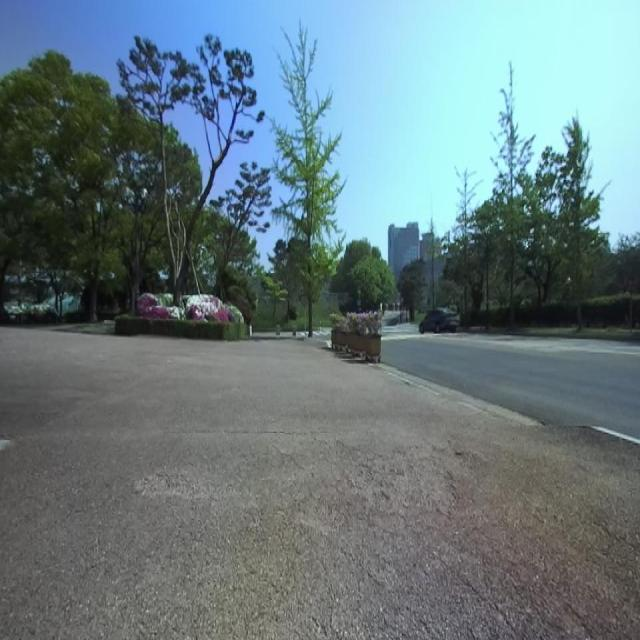sidewalk: (0, 327, 640, 638)
